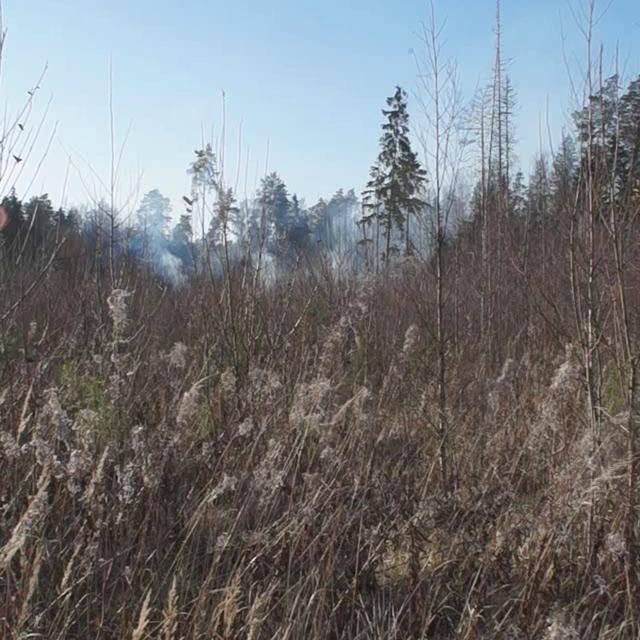Smoke: (108, 181, 476, 308)
